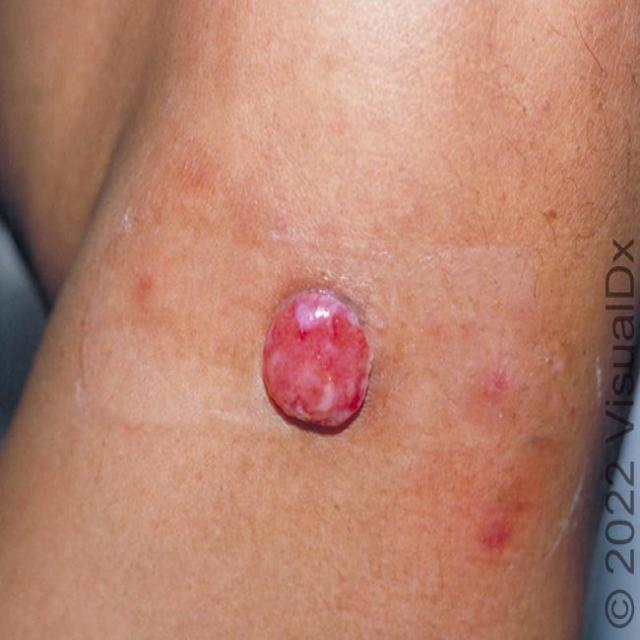Nao cancer: (256, 270, 382, 443)
